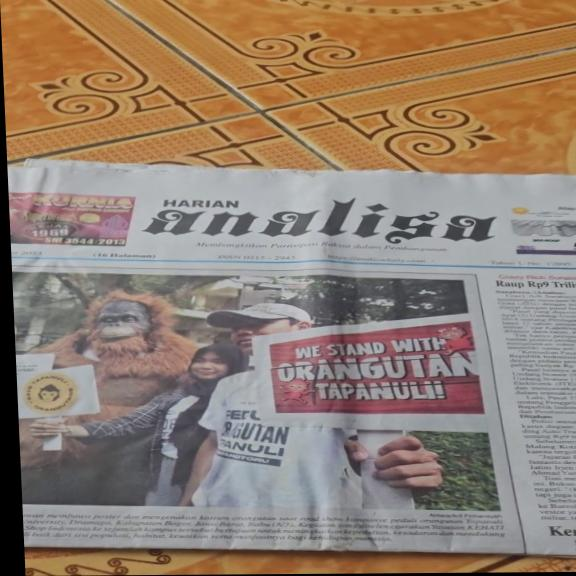Kertas: (10, 164, 576, 554)
